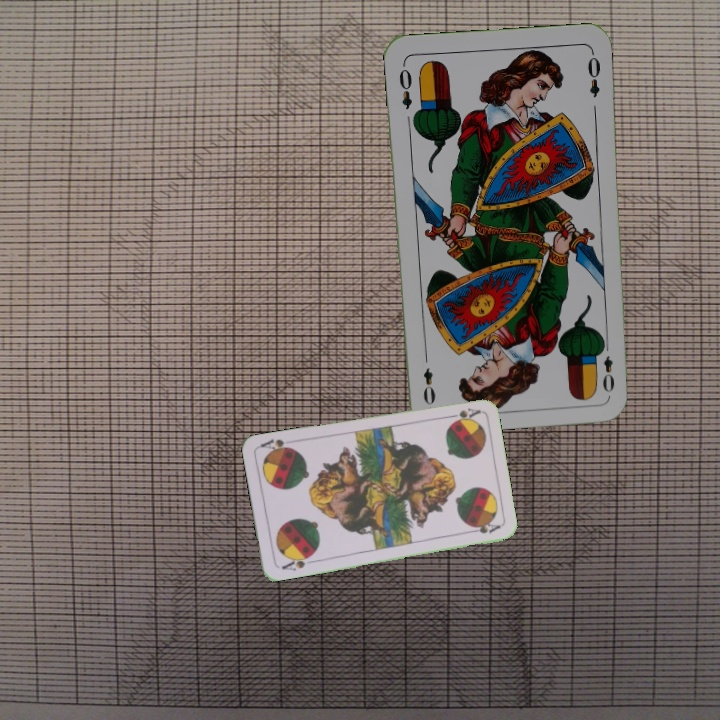EO: (595, 337, 618, 395), (395, 60, 415, 112)
SA: (278, 551, 316, 573), (442, 404, 482, 424)
